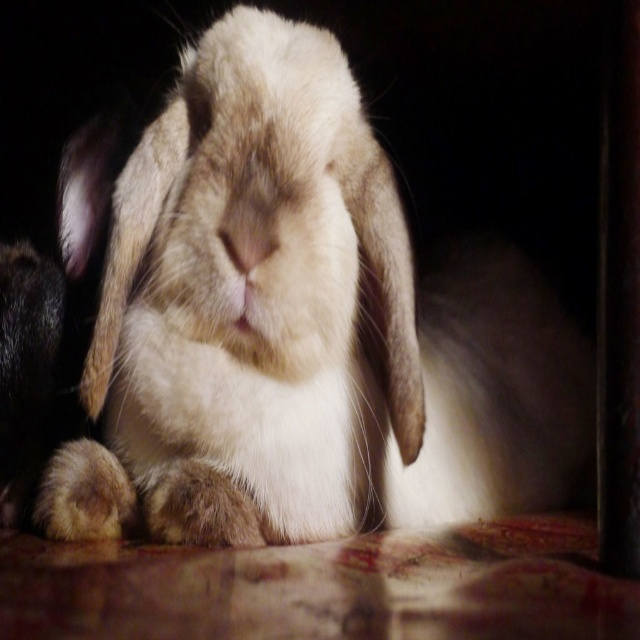Rabbit: (27, 4, 595, 556)
